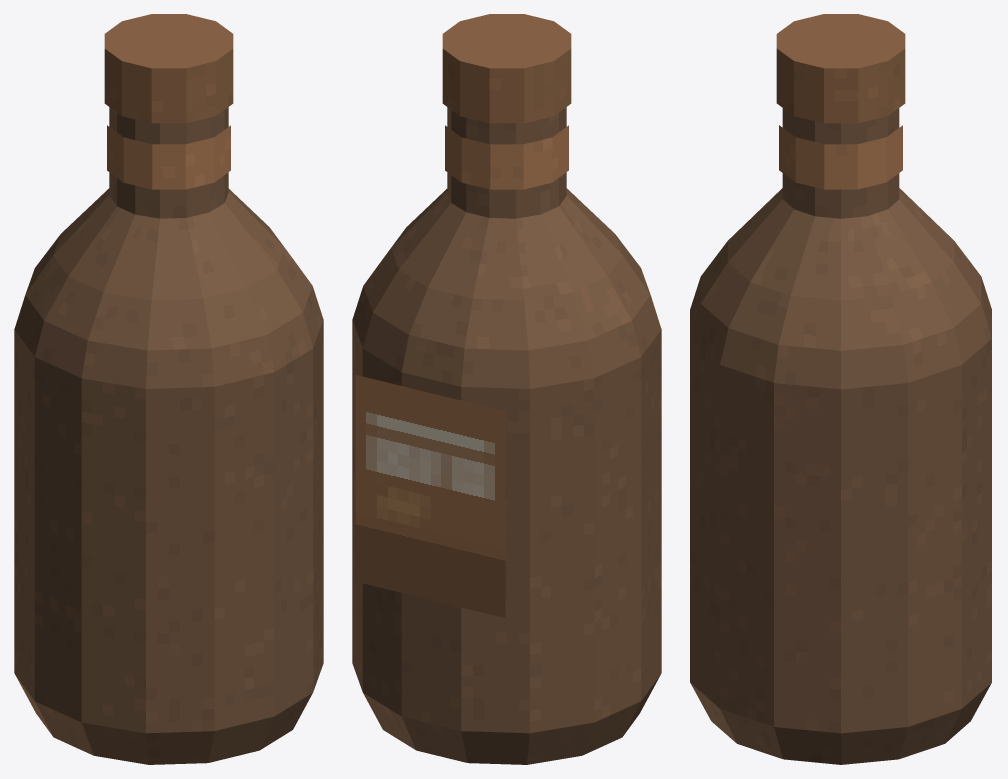
Rendered from hb_beer.glb.
3 views of the same model, side by side, from view 1: azimuth 30°, elevation 25°; view 2: azimuth 150°, elevation 25°; view 3: azimuth 270°, elevation 25° (orthographic).
Visible parts, largest first — view 1: block_bottle silhouette, block_bottle closure, block_neck band; view 2: block_bottle silhouette, block_drink label, block_bottle closure, block_neck band; view 3: block_bottle silhouette, block_bottle closure, block_neck band.
Part boxes in pixels (x1,y1,x2,y2): block_bottle silhouette: (14, 107, 323, 764); block_bottle closure: (104, 14, 233, 123); block_neck band: (107, 125, 230, 189); block_bottle silhouette: (352, 107, 661, 764); block_drink label: (355, 375, 505, 617); block_bottle closure: (442, 14, 571, 123); block_neck band: (445, 125, 568, 189); block_bottle silhouette: (690, 108, 991, 764); block_bottle closure: (776, 14, 905, 123); block_neck band: (779, 125, 902, 189).
Bounding box in the file's own units: 0.0688 × 0.1638 × 0.0675.
Materials: 1 (1 with a texture image).
